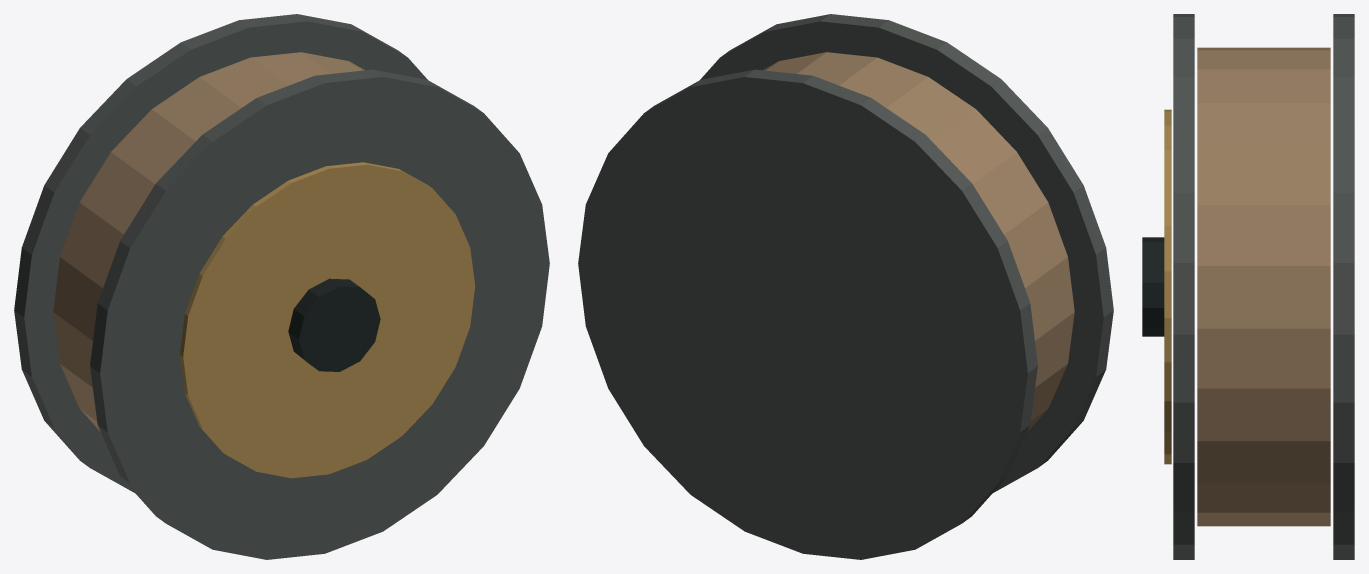
Rendered from copolymer.glb.
3 renders of one model, left to right at view 1: azimuth 30°, elevation 25°; view 2: azimuth 150°, elevation 25°; view 3: azimuth 270°, elevation 25°, orthographic. The views are drawn at different scales.
Parts seen in each view (by area): view 1: Spool_flange.008, Front_label.004, Spool_flange.009, Wound_line.004, Center_hub; view 2: Spool_flange.009, Spool_flange.008, Wound_line.004; view 3: Wound_line.004, Spool_flange.008, Spool_flange.009, Front_label.004, Center_hub.
Part boxes in pixels (x1,y1,x2,y2): Spool_flange.008: [90, 69, 549, 559]; Front_label.004: [180, 162, 475, 478]; Spool_flange.009: [14, 14, 427, 493]; Wound_line.004: [53, 52, 364, 431]; Center_hub: [288, 278, 380, 371]; Spool_flange.009: [578, 69, 1037, 559]; Spool_flange.008: [700, 14, 1113, 493]; Wound_line.004: [763, 52, 1074, 431]; Wound_line.004: [1197, 47, 1330, 526]; Spool_flange.008: [1173, 14, 1194, 559]; Spool_flange.009: [1333, 14, 1354, 559]; Front_label.004: [1164, 109, 1171, 464]; Center_hub: [1142, 237, 1164, 336].
Size of the model in its own units: 0.308 by 0.308 by 0.1195.
